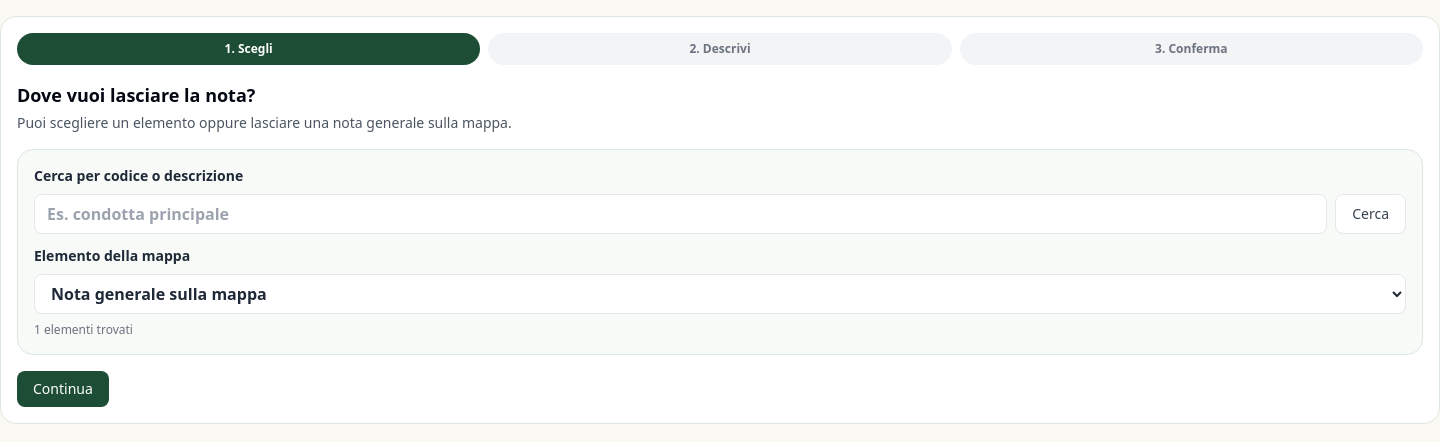
guided GIS workflow components › reviews a note for the whole map without selecting a feature
Expected: the text "1 elementi trovati" is shown, [34, 321, 133, 338]
Click the button "Continua" at (63, 389), box [17, 371, 109, 407]
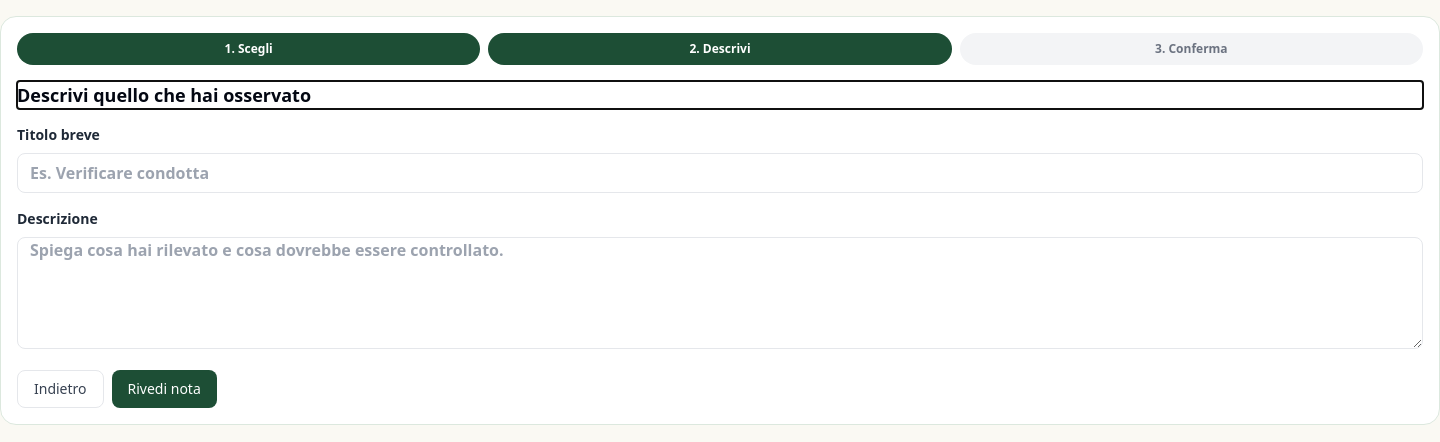
Type "Nota generale" into the field labelled "Titolo breve" at (720, 173), box [17, 153, 1423, 193]
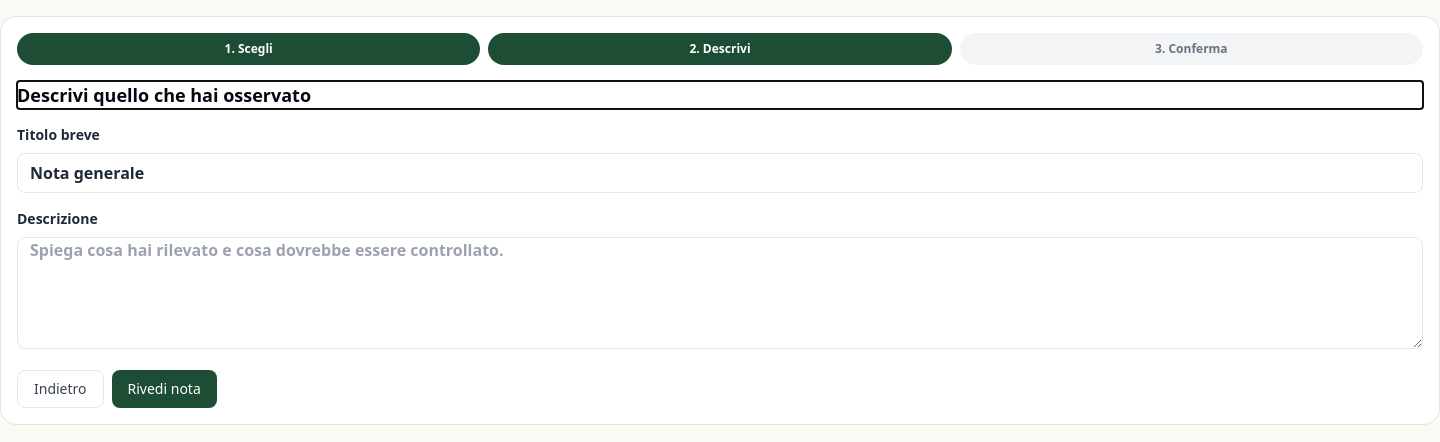
Type "Verifica complessiva" into the text box labelled "Descrizione" at (720, 293), box [17, 237, 1423, 349]
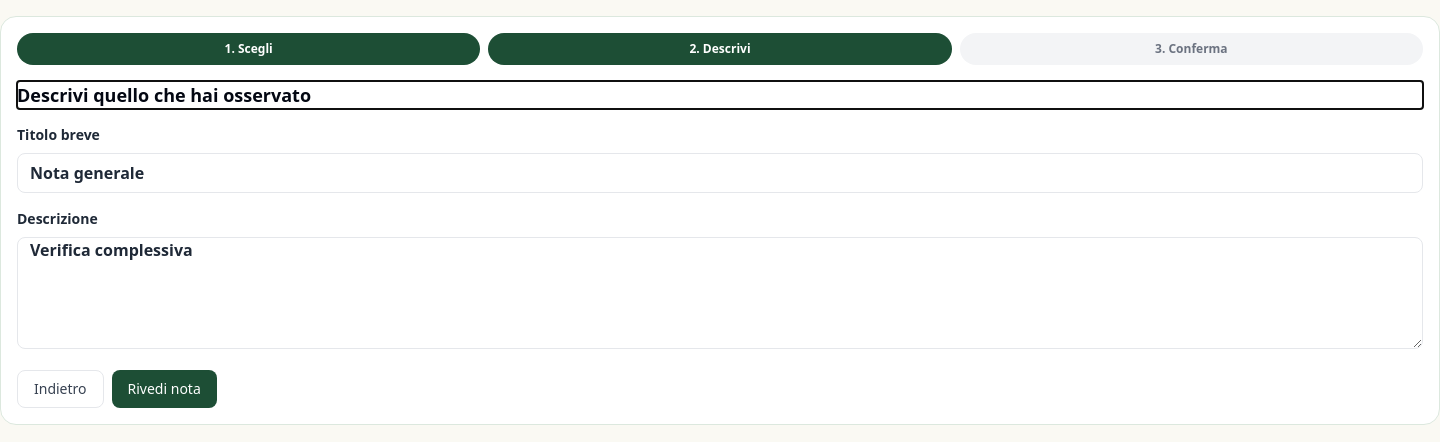
Click the button "Rivedi nota" at (164, 389), box [112, 370, 217, 408]
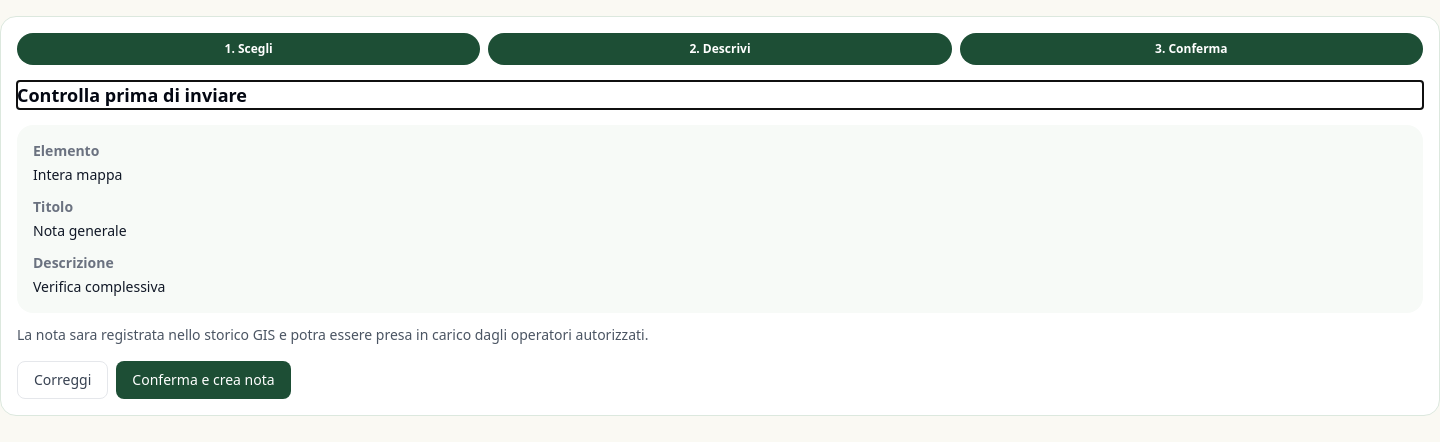
Expected: the text "Intera mappa" is shown, [33, 165, 122, 184]
